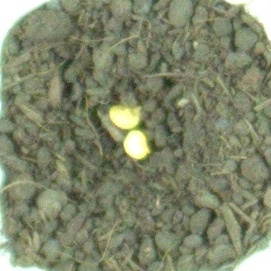chilli seed: (122, 130, 153, 160), (108, 102, 142, 128)
